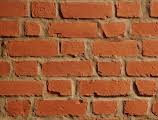brick: (78, 80, 129, 97), (62, 1, 112, 18), (9, 40, 59, 56), (92, 39, 137, 56), (47, 21, 98, 35), (1, 80, 44, 95), (38, 101, 87, 114), (42, 62, 92, 74), (124, 61, 158, 75), (1, 1, 29, 17), (116, 1, 141, 18), (62, 39, 86, 56), (32, 1, 57, 17), (102, 20, 127, 36), (1, 18, 21, 37), (96, 61, 121, 76), (130, 23, 158, 36), (13, 60, 39, 74), (48, 81, 72, 96), (136, 80, 158, 94), (24, 20, 42, 37), (92, 100, 116, 112), (7, 100, 29, 112), (143, 41, 158, 57), (125, 101, 145, 113), (148, 1, 157, 18)
